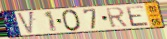1: (44, 10, 58, 33)
7: (82, 8, 98, 30)
E: (124, 4, 151, 27)
O: (61, 9, 83, 32)
R: (105, 7, 130, 29)
V: (16, 10, 35, 36)
